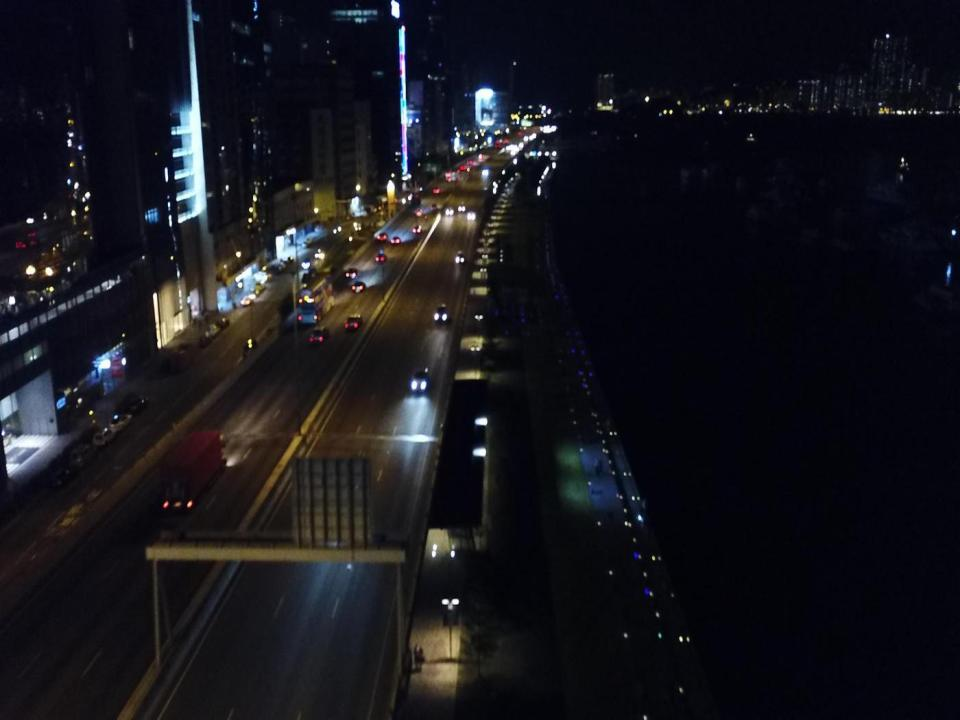bus: (298, 274, 335, 324)
car: (69, 444, 99, 465), (53, 466, 73, 491), (93, 427, 118, 447), (454, 191, 472, 218), (440, 194, 458, 221), (108, 411, 132, 431), (122, 395, 147, 414), (412, 366, 428, 394), (462, 202, 478, 229), (345, 312, 363, 331), (310, 326, 328, 344), (432, 304, 449, 322), (454, 247, 466, 264), (352, 280, 366, 292), (200, 332, 211, 347), (216, 318, 228, 330), (207, 324, 220, 335), (374, 253, 388, 263), (346, 268, 358, 278), (314, 246, 324, 258), (301, 257, 310, 270), (377, 232, 388, 241), (240, 298, 252, 306), (412, 225, 422, 234), (429, 203, 438, 212), (391, 237, 401, 245), (415, 208, 422, 216), (434, 187, 440, 195)
truck: (158, 428, 227, 514)
